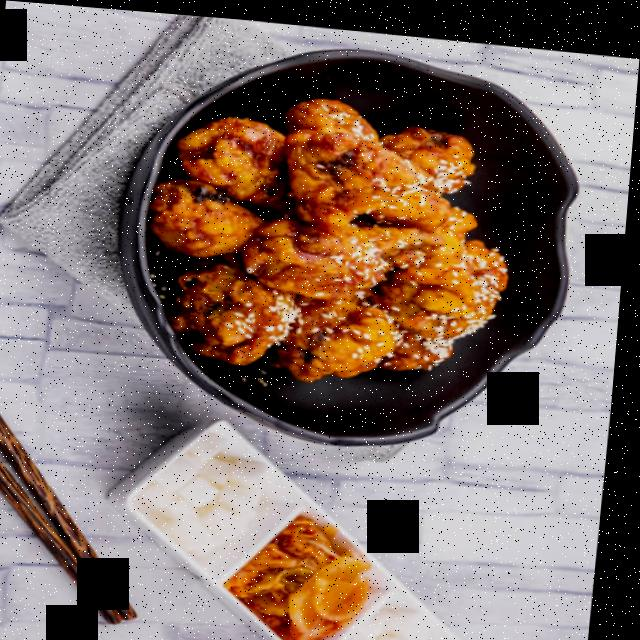Frango: (146, 81, 529, 390)
